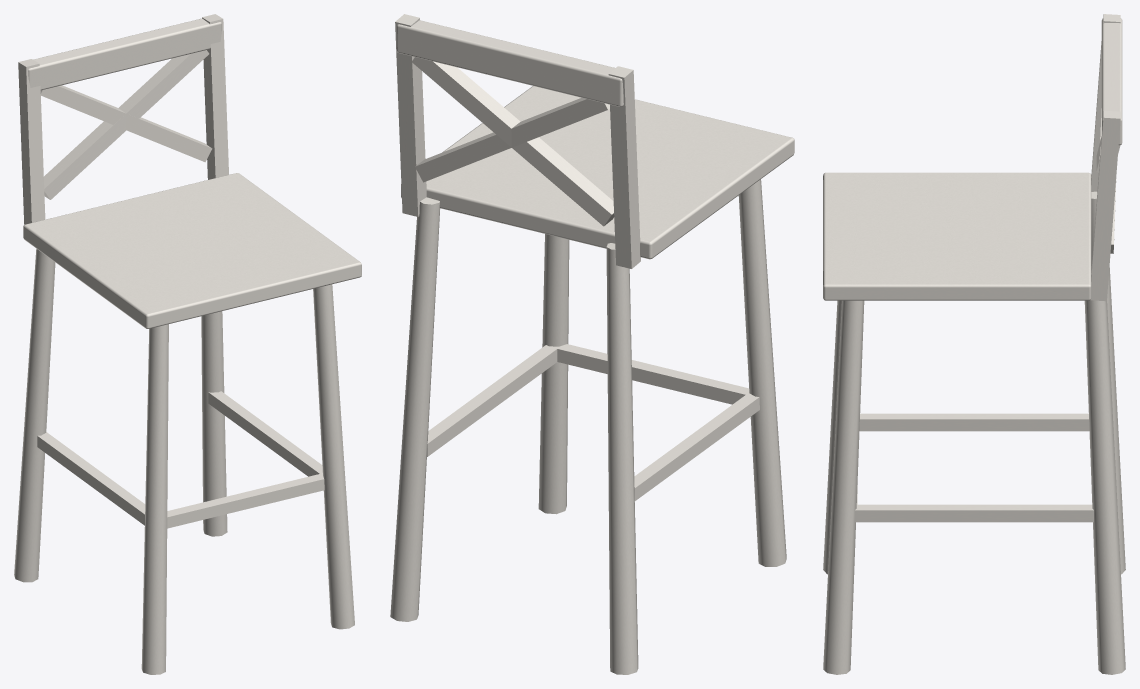
File: ingolf-mobile.glb
The picture shows the model from 3 angles, left to right: view 1: azimuth 30°, elevation 25°; view 2: azimuth 150°, elevation 25°; view 3: azimuth 270°, elevation 25°; orthographic projection. The views are drawn at different scales.
Visible parts, largest first — view 1: INGOLF Counter stool · 63 cm seat; view 2: INGOLF Counter stool · 63 cm seat; view 3: INGOLF Counter stool · 63 cm seat.
Boxes of the visible parts, x1=… form: INGOLF Counter stool · 63 cm seat: x1=14, y1=14, x2=361, y2=674; INGOLF Counter stool · 63 cm seat: x1=390, y1=14, x2=794, y2=674; INGOLF Counter stool · 63 cm seat: x1=823, y1=14, x2=1125, y2=674.
Size of the model in its own units: 0.4 by 0.91 by 0.45.
Materials: 1 (1 with a texture image).
